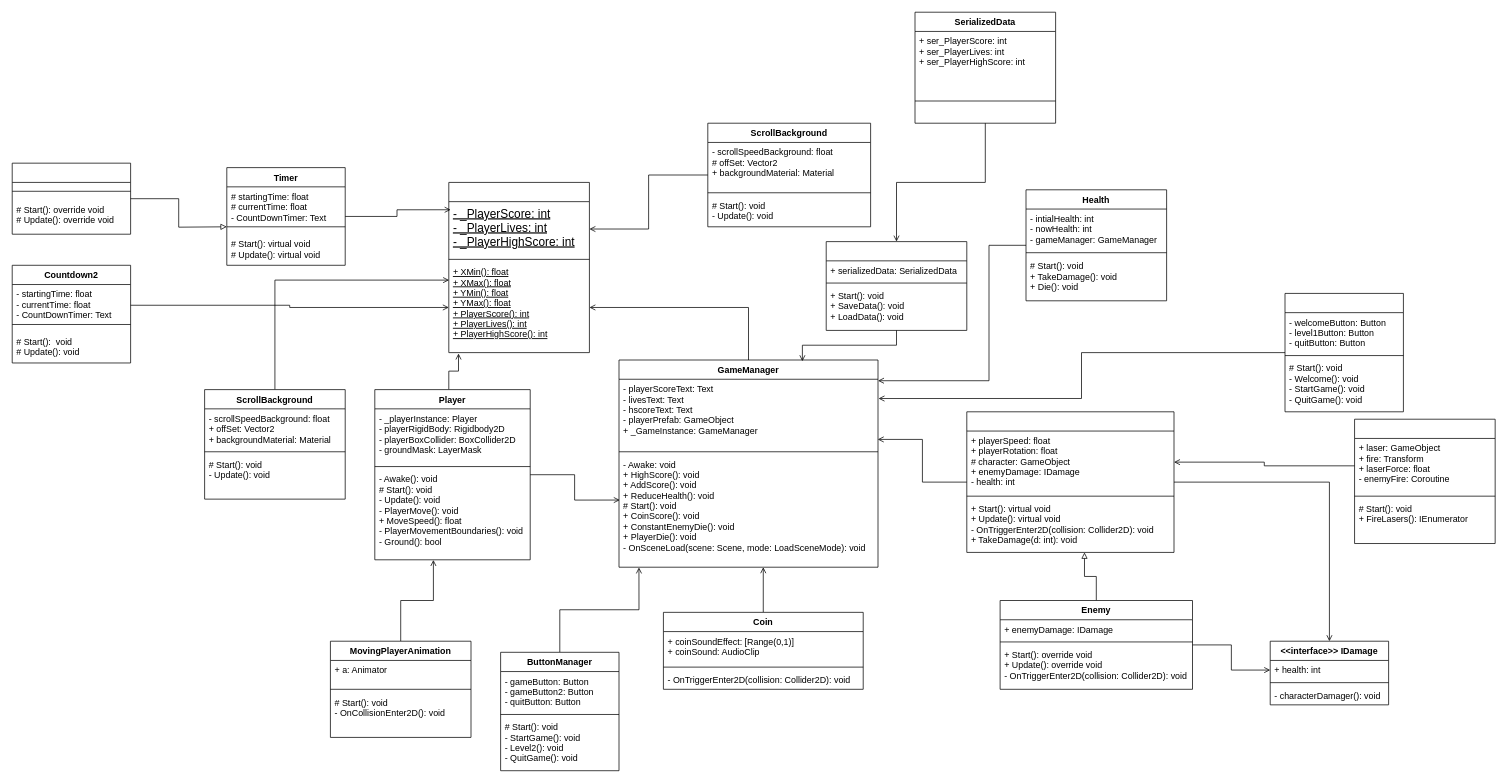
Image size: 1507x783. Some labels were removed from this diagram. The box of each missing label's shape, as (x1, y1, x2, y2) in pixels:
ButtonManager2: (1284, 293, 1403, 412)
ConstantEnemy: (966, 411, 1174, 552)
Countdown: (11, 162, 131, 234)
GameData: (448, 182, 589, 353)
SaveLoadManager: (825, 241, 967, 330)
ShootingEnemy: (1354, 418, 1495, 544)
